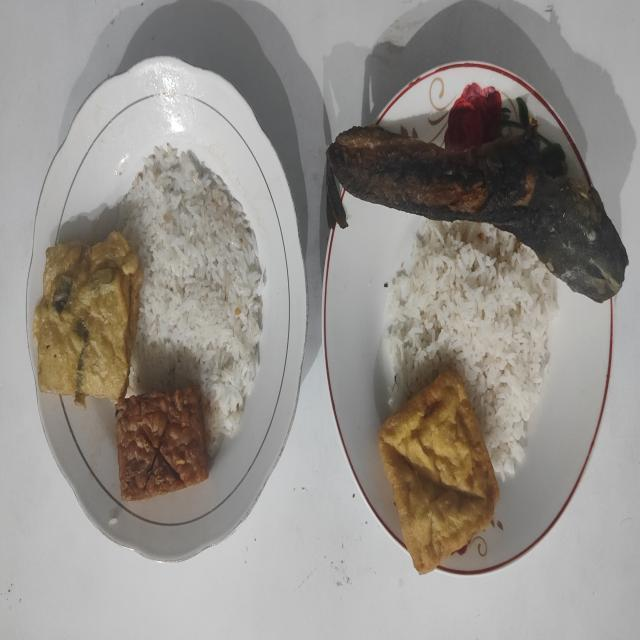nasi_putih: (384, 220, 558, 480), (121, 143, 266, 454)
tahu_goreng: (378, 371, 499, 574)
tempe_goreng: (115, 386, 208, 501)
